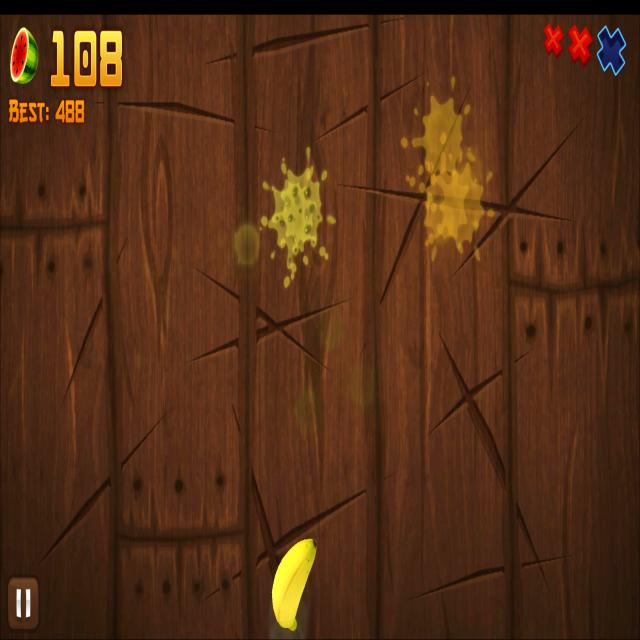fruit: (271, 538, 317, 631)
